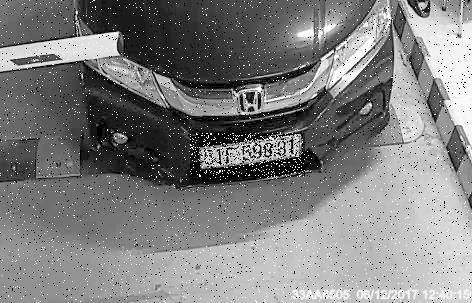License-plate: (191, 134, 306, 178)
